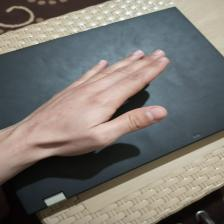five: (49, 48, 174, 150)
